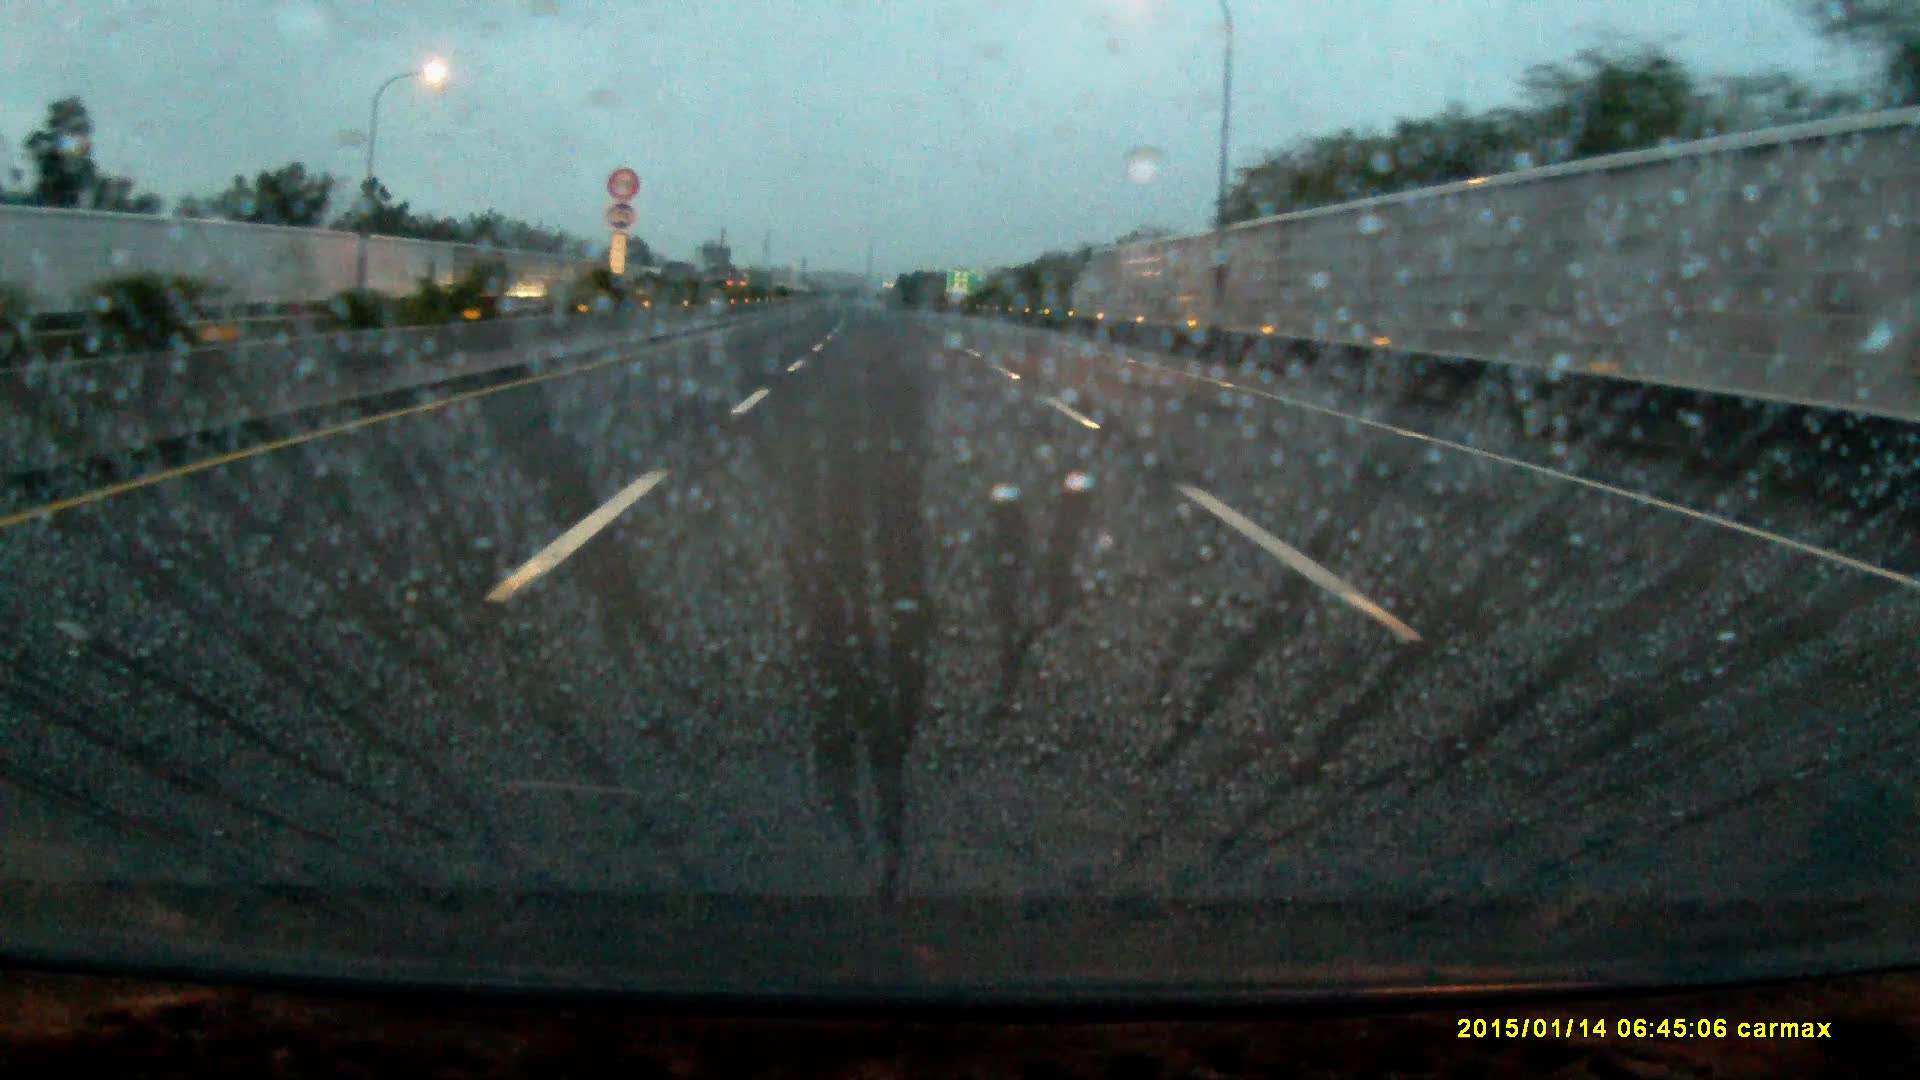vehicle: (727, 278, 754, 305)
